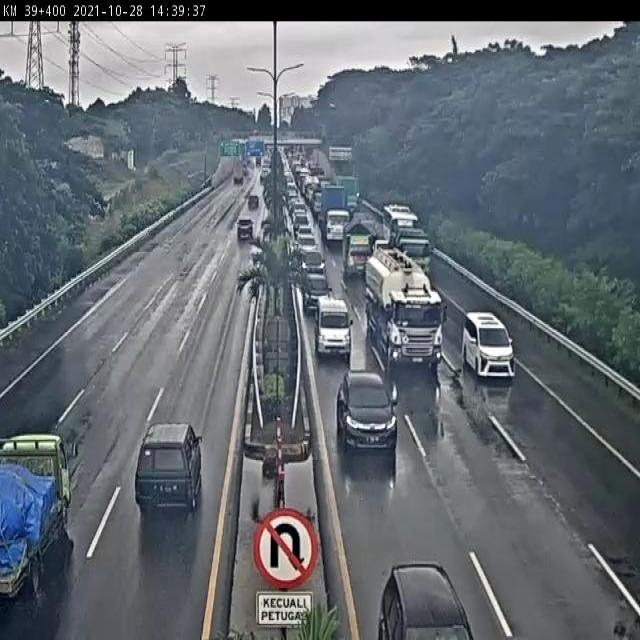big truck: (360, 248, 443, 363)
car: (372, 544, 480, 640), (124, 411, 210, 524), (334, 360, 396, 456), (462, 299, 514, 373), (318, 297, 352, 353), (304, 274, 330, 310), (301, 247, 325, 270), (235, 219, 254, 248), (245, 191, 265, 217)
small truck: (0, 433, 70, 611), (343, 223, 371, 272)
